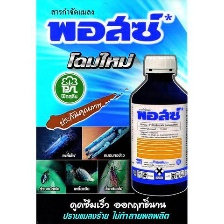insecticide: (128, 53, 193, 197)
